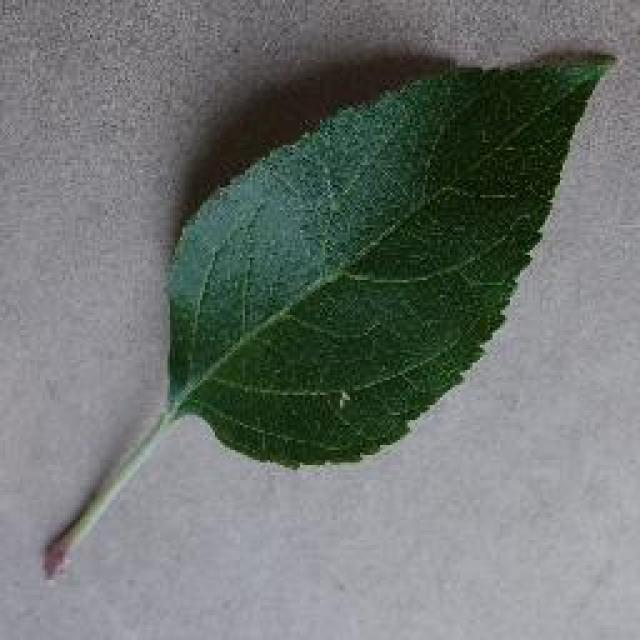apple healthy: (38, 40, 618, 578)
